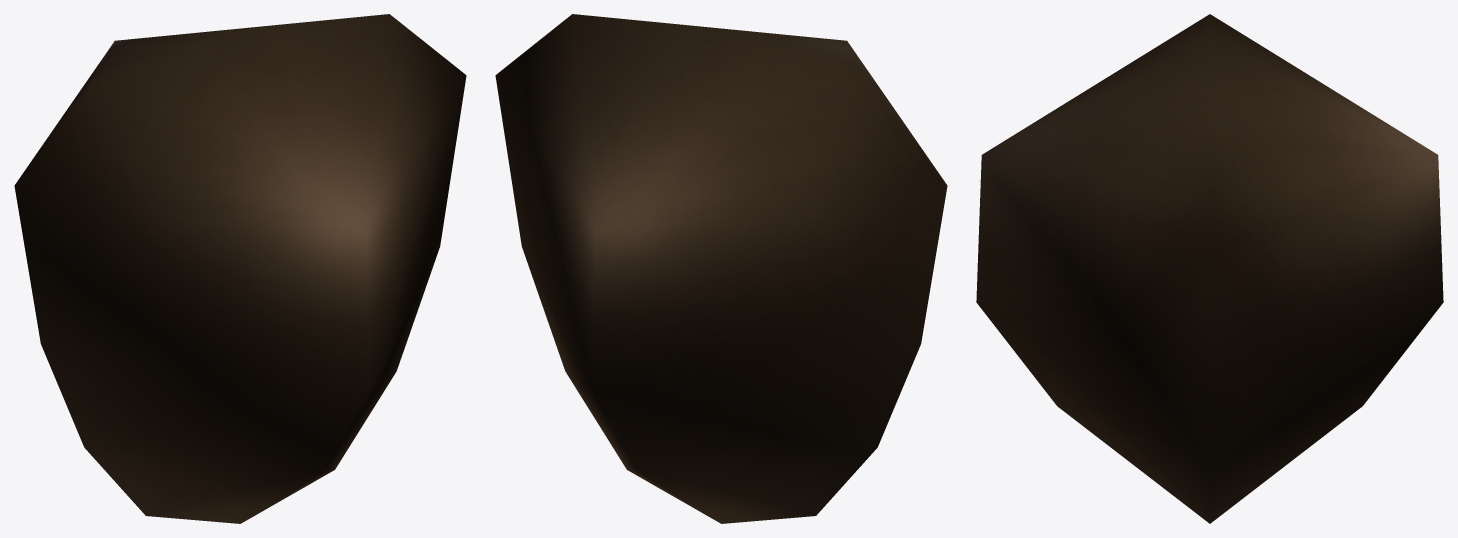
The model's file is carnation_001.FBX.
3 views of the same model, side by side, from view 1: azimuth 30°, elevation 25°; view 2: azimuth 150°, elevation 25°; view 3: azimuth 270°, elevation 25° (orthographic). The views are drawn at different scales.
Visible parts, largest first — view 1: Carnation_001; view 2: Carnation_001; view 3: Carnation_001.
Part boxes in pixels (x1,y1,x2,y2): Carnation_001: (14,14,466,523); Carnation_001: (495,14,947,523); Carnation_001: (976,14,1443,523).
Size of the model in its own units: 20.16 by 21.05 by 19.86.
